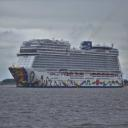cruises: (8, 37, 124, 90)
